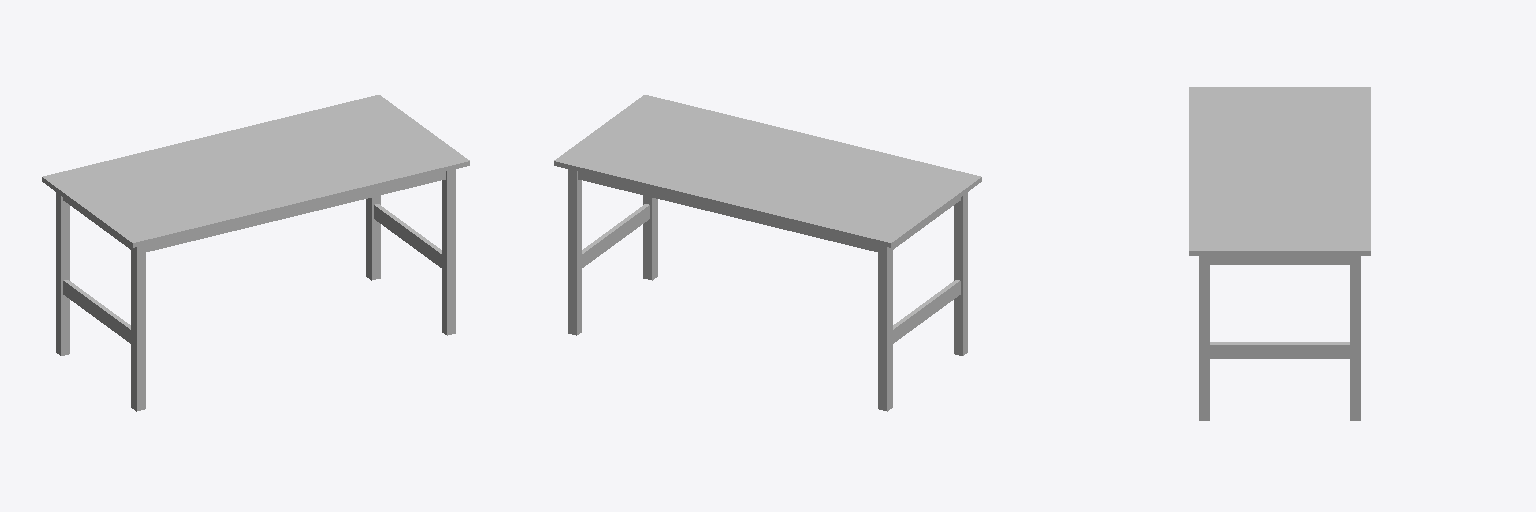
File: table.obj
The picture shows the model from 3 angles: view 1: azimuth 30°, elevation 25°; view 2: azimuth 150°, elevation 25°; view 3: azimuth 270°, elevation 25°; orthographic projection.
Parts seen in each view (by area): view 1: pCube1 Table, Table pCube4, Table pCube8, Table pCube2, Table pCube5, Table pCube7, Table pCube10, Table pCube3; view 2: pCube1 Table, Table pCube5, Table pCube6, Table pCube3, Table pCube4, Table pCube7, Table pCube10, Table pCube2; view 3: pCube1 Table, Table pCube7, Table pCube2, Table pCube3, Table pCube9.
Part boxes in pixels (bbox=[...]): pCube1 Table: bbox=[42, 95, 469, 247]; Table pCube4: bbox=[131, 245, 145, 411]; Table pCube8: bbox=[146, 172, 445, 251]; Table pCube2: bbox=[442, 169, 455, 335]; Table pCube5: bbox=[56, 192, 69, 355]; Table pCube7: bbox=[374, 204, 441, 267]; Table pCube10: bbox=[63, 280, 130, 343]; Table pCube3: bbox=[366, 195, 380, 280]; pCube1 Table: bbox=[554, 95, 981, 247]; Table pCube5: bbox=[878, 245, 892, 411]; Table pCube6: bbox=[578, 172, 877, 251]; Table pCube3: bbox=[568, 169, 581, 335]; Table pCube4: bbox=[954, 192, 967, 355]; Table pCube7: bbox=[582, 204, 649, 267]; Table pCube10: bbox=[893, 280, 960, 343]; Table pCube2: bbox=[643, 195, 657, 280]; pCube1 Table: bbox=[1189, 87, 1370, 255]; Table pCube7: bbox=[1210, 342, 1349, 358]; Table pCube2: bbox=[1199, 256, 1209, 420]; Table pCube3: bbox=[1350, 256, 1360, 420]; Table pCube9: bbox=[1210, 256, 1349, 264].
Size of the model in its own units: 150 by 74 by 70.